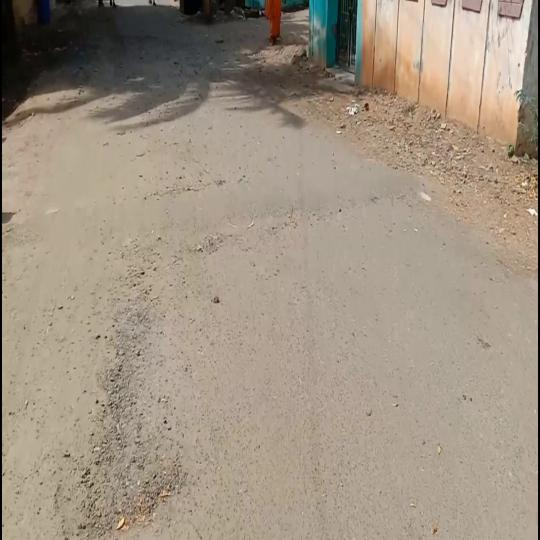Speed Bump: (29, 164, 423, 238)
